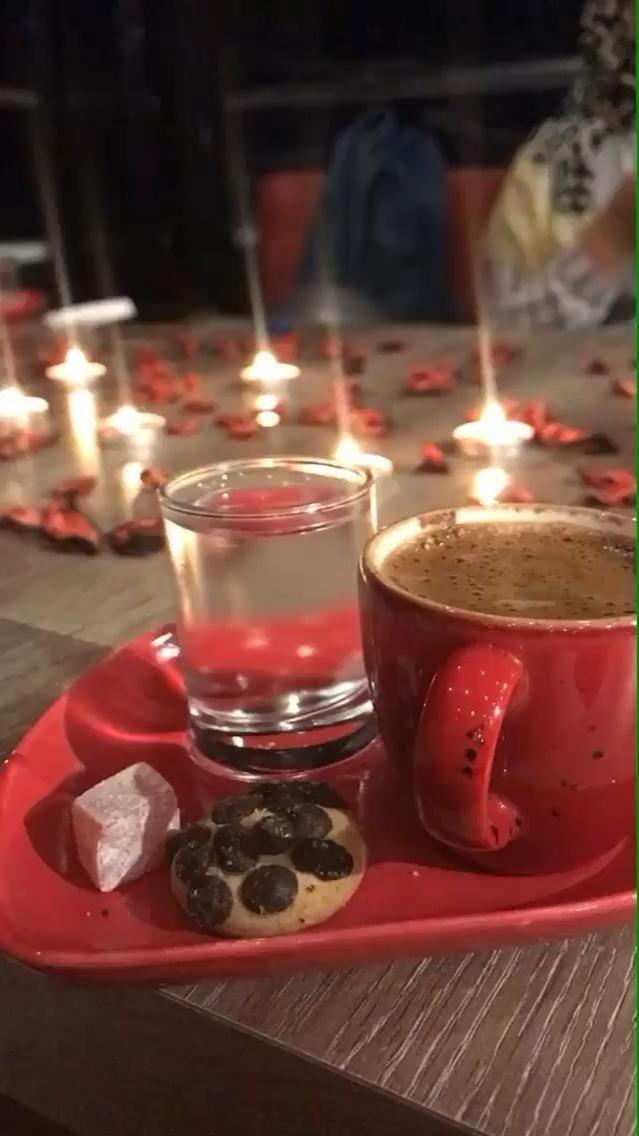cup-handle: (360, 498, 638, 882)
glass-normal: (156, 455, 379, 774)
